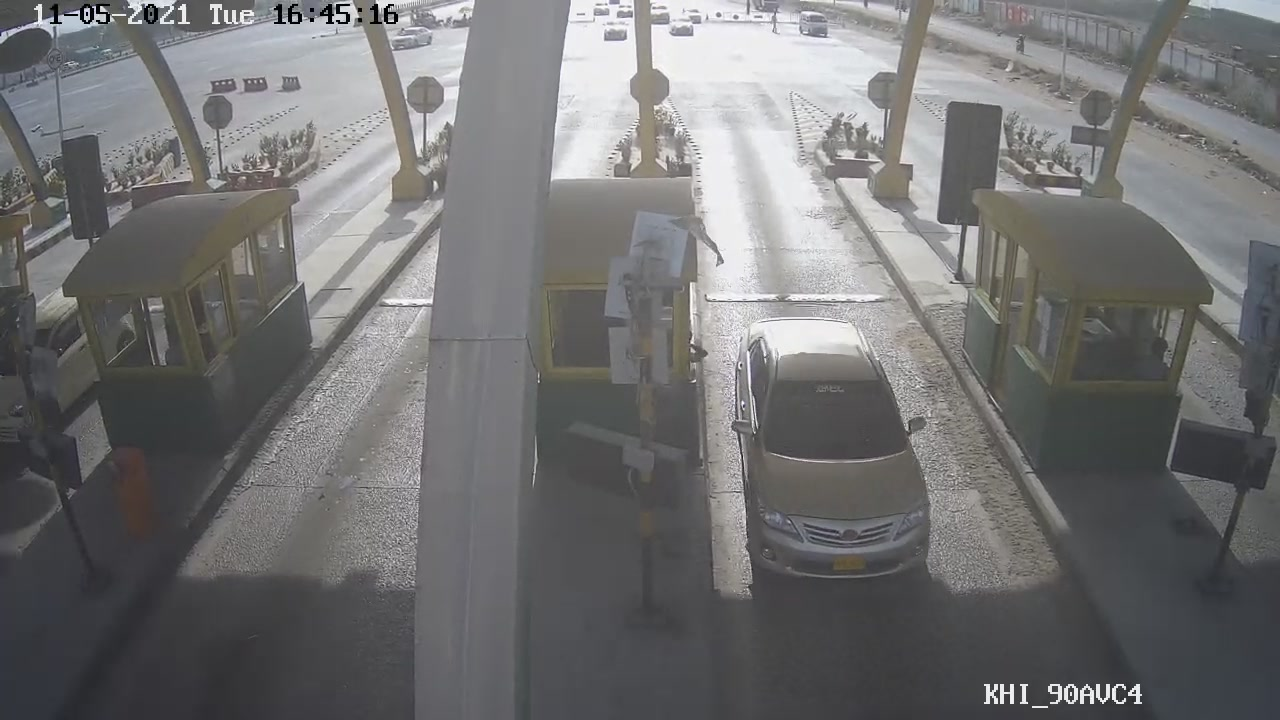F1: (724, 315, 930, 580)
